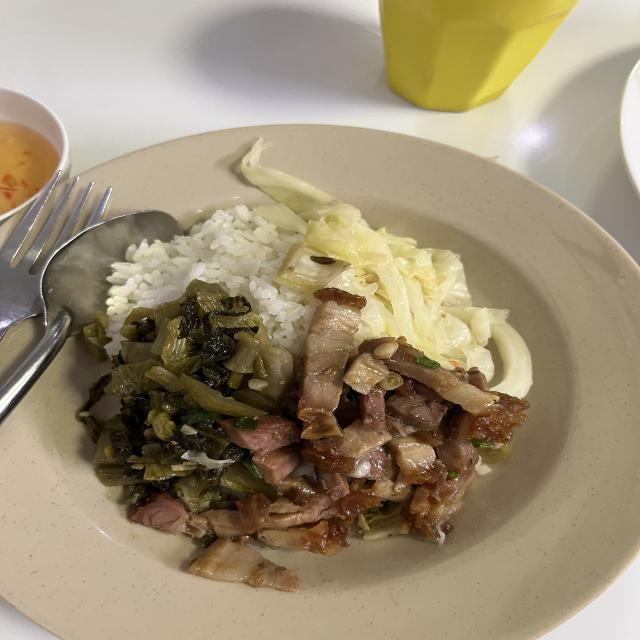bap cai xao: (241, 140, 532, 398)
com: (106, 205, 319, 354)
nuoc mam: (0, 121, 59, 214)
rau: (76, 280, 294, 510)
